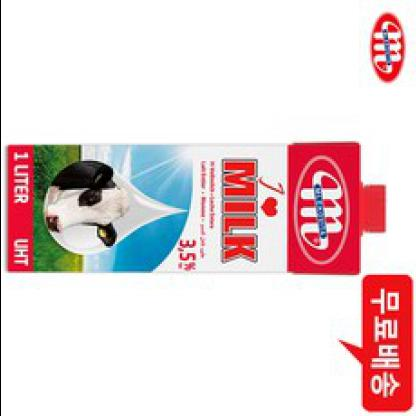tetra: (2, 128, 394, 283)
